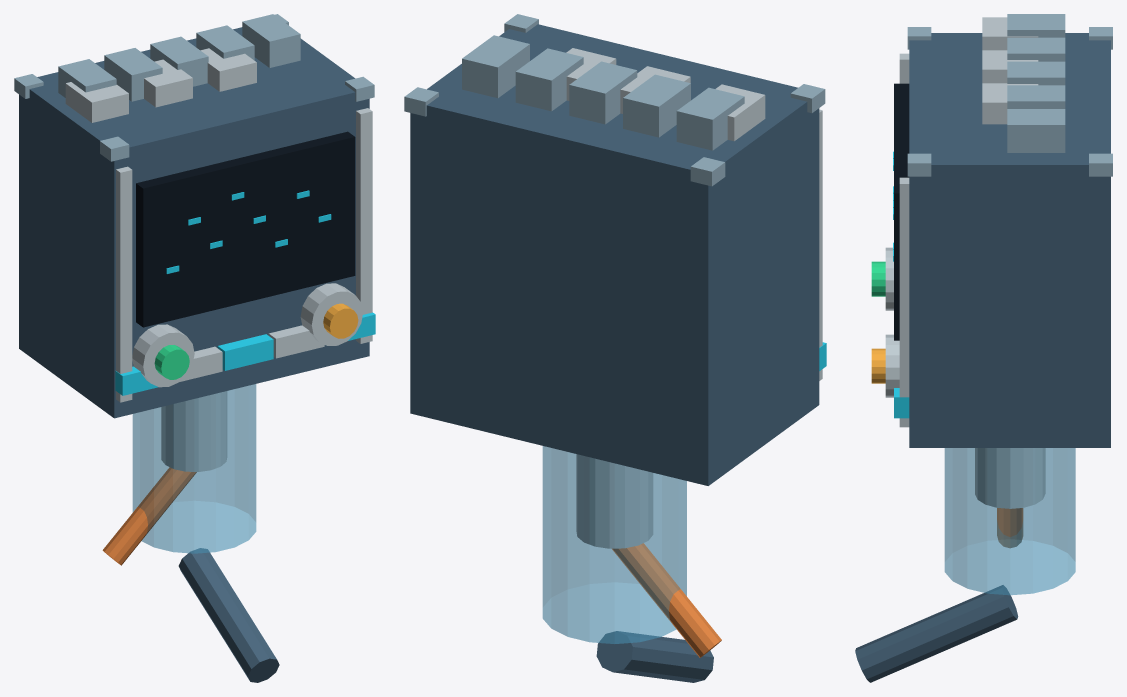
The model's file is 46_L74_DeveloperFlowTransmitter.fbx.
The picture shows the model from 3 angles, left to right: view 1: azimuth 30°, elevation 25°; view 2: azimuth 150°, elevation 25°; view 3: azimuth 270°, elevation 25°; orthographic projection. The views are drawn at different scales.
Visible parts, largest first — view 1: DeveloperFlowTransmitter; view 2: DeveloperFlowTransmitter; view 3: DeveloperFlowTransmitter.
Boxes of the visible parts, <box> form: DeveloperFlowTransmitter: <box>14,14,375,682</box>; DeveloperFlowTransmitter: <box>404,14,826,682</box>; DeveloperFlowTransmitter: <box>855,14,1112,682</box>.
Bounding box in the file's own units: 46.05 × 96.16 × 36.81.
